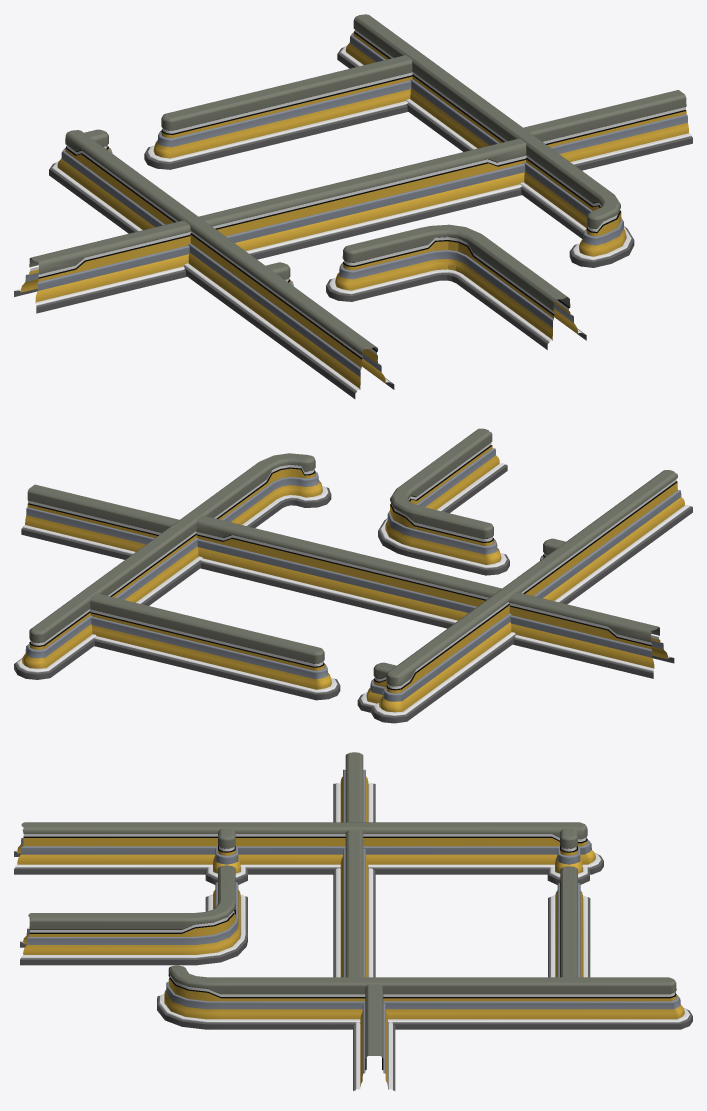
Rendered from Small Walls.fbx.
The picture shows the model from 3 angles, top to bottom: view 1: azimuth 30°, elevation 25°; view 2: azimuth 150°, elevation 25°; view 3: azimuth 270°, elevation 25°; orthographic projection. The views are drawn at different scales.
Parts seen in each view (by area): view 1: Small_wallv1_4, Small_wallv1_20, Small_wall_L69, Small_wall_L46, Small_wall_L70, Small_wall_L47; view 2: Small_wallv1_4, Small_wallv1_20, Small_wall_L69, Small_wall_L46, Small_wall_L70, Small_wall_L47, Small_wallv1_58; view 3: Small_wallv1_20, Small_wall_L69, Small_wall_L70, Small_wallv1_4, Small_wall_L46, Small_wall_L47, Small_wallv1_58, Small_wallv1_21.
Part boxes in pixels (x1,y1,x2,y2): Small_wallv1_4: (14, 138, 526, 313); Small_wallv1_20: (49, 130, 394, 398); Small_wall_L69: (337, 14, 634, 267); Small_wall_L46: (144, 55, 412, 169); Small_wall_L70: (326, 224, 586, 349); Small_wall_L47: (523, 90, 692, 170); Small_wallv1_4: (196, 515, 674, 678); Small_wallv1_20: (371, 470, 692, 723); Small_wall_L69: (14, 453, 331, 679); Small_wall_L46: (90, 593, 340, 700); Small_wall_L70: (378, 428, 509, 575); Small_wall_L47: (21, 484, 179, 559); Small_wallv1_58: (357, 662, 396, 712); Small_wallv1_20: (14, 822, 603, 874); Small_wall_L69: (157, 965, 692, 1029); Small_wall_L70: (20, 865, 247, 965); Small_wallv1_4: (333, 752, 375, 977); Small_wall_L46: (548, 866, 590, 977); Small_wall_L47: (353, 984, 395, 1090); Small_wallv1_58: (547, 828, 589, 884); Small_wallv1_21: (205, 828, 247, 884).
Size of the model in its own units: 590 by 38.39 by 552.
